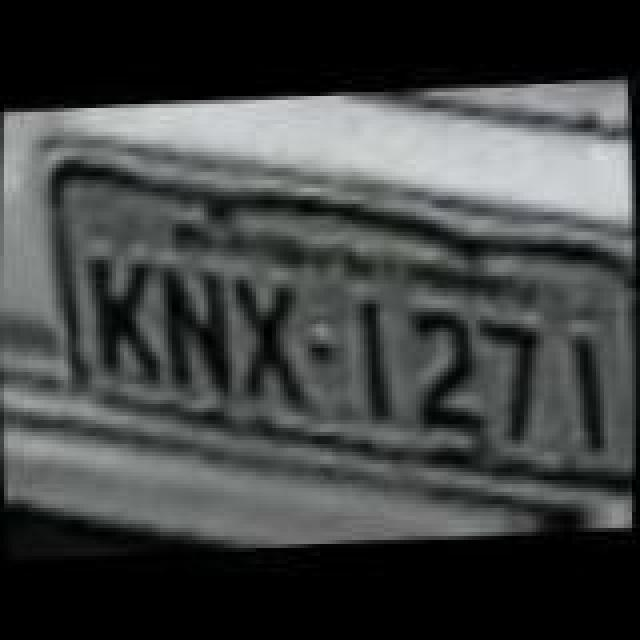1: (566, 324, 626, 452), (348, 294, 400, 426)
2: (408, 306, 484, 434)
7: (470, 310, 546, 450)
K: (84, 248, 168, 384)
N: (152, 262, 236, 390)
X: (226, 270, 314, 418)
